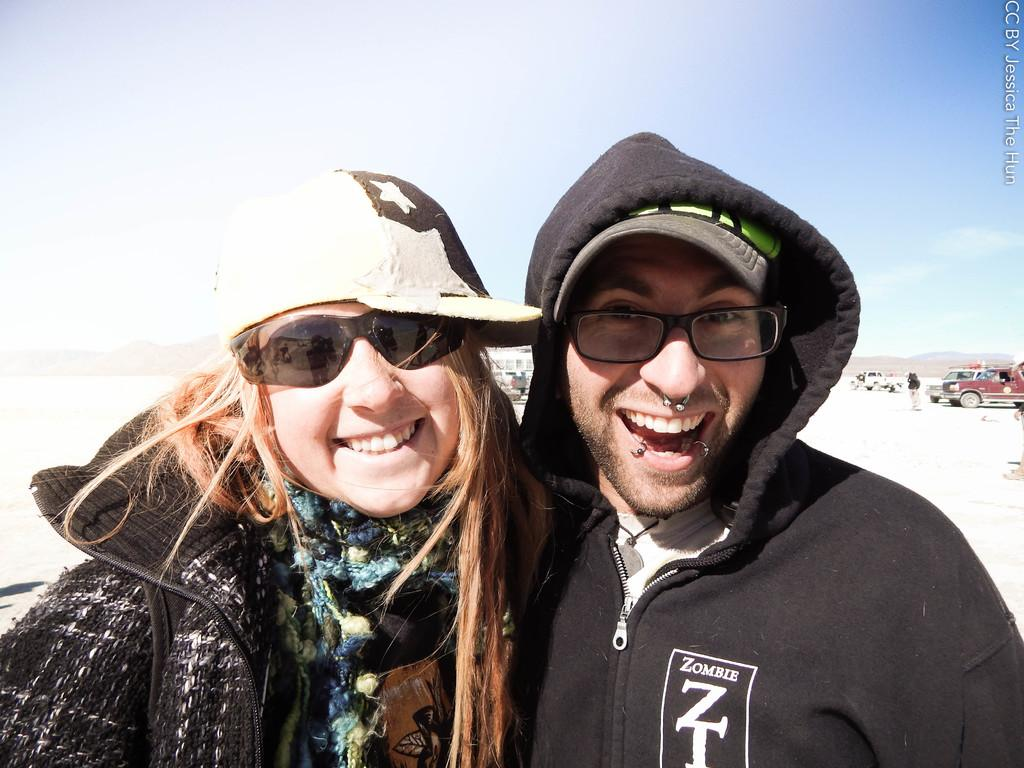Hat: (214, 166, 547, 348), (554, 201, 782, 322)
